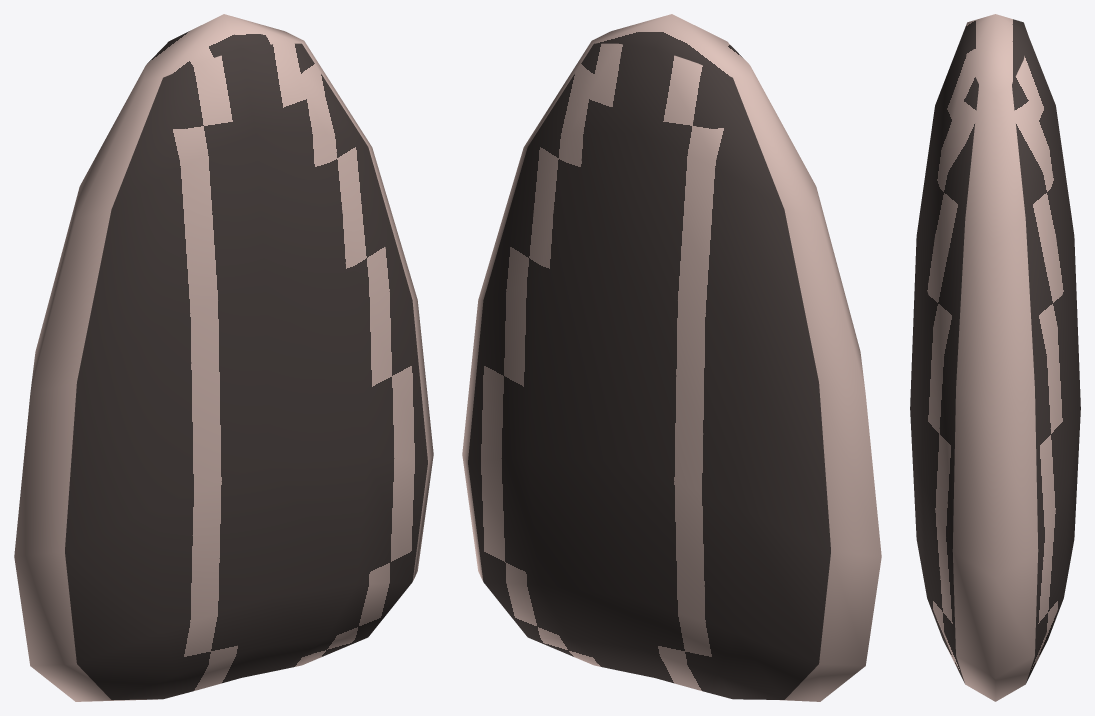
The model's file is sunflower_seed.glb.
The picture shows the model from 3 angles, left to right: view 1: azimuth 30°, elevation 25°; view 2: azimuth 150°, elevation 25°; view 3: azimuth 270°, elevation 25°; orthographic projection. The views are drawn at different scales.
Visible parts, largest first — view 1: Sphere; view 2: Sphere; view 3: Sphere.
Boxes of the visible parts, bbox=[...] form: Sphere: bbox=[14, 14, 433, 701]; Sphere: bbox=[462, 14, 881, 701]; Sphere: bbox=[910, 14, 1080, 701].
Size of the model in its own units: 1.17 by 1.78 by 0.4361.
Materials: 1 (1 with a texture image).
